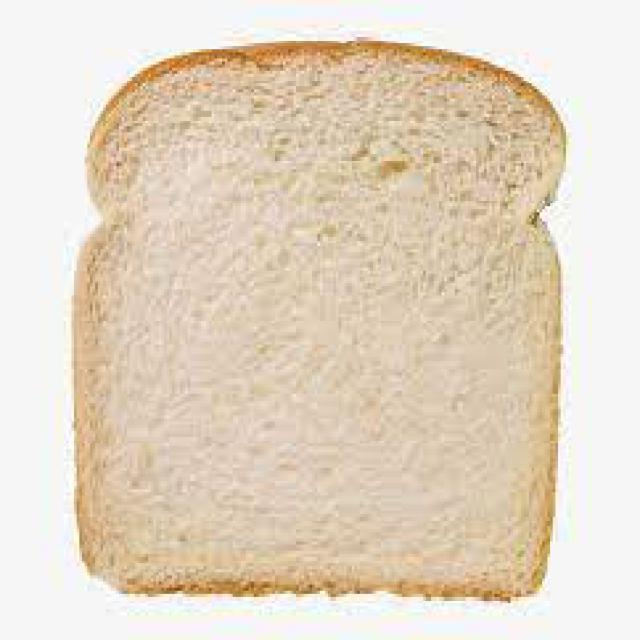Bread: (73, 36, 565, 598)
